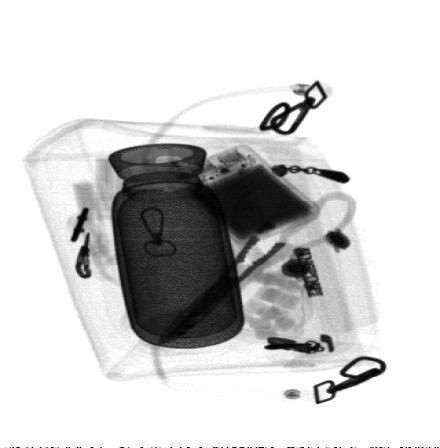Powerbank: (165, 146, 321, 242)
Scissors: (155, 182, 358, 348)
